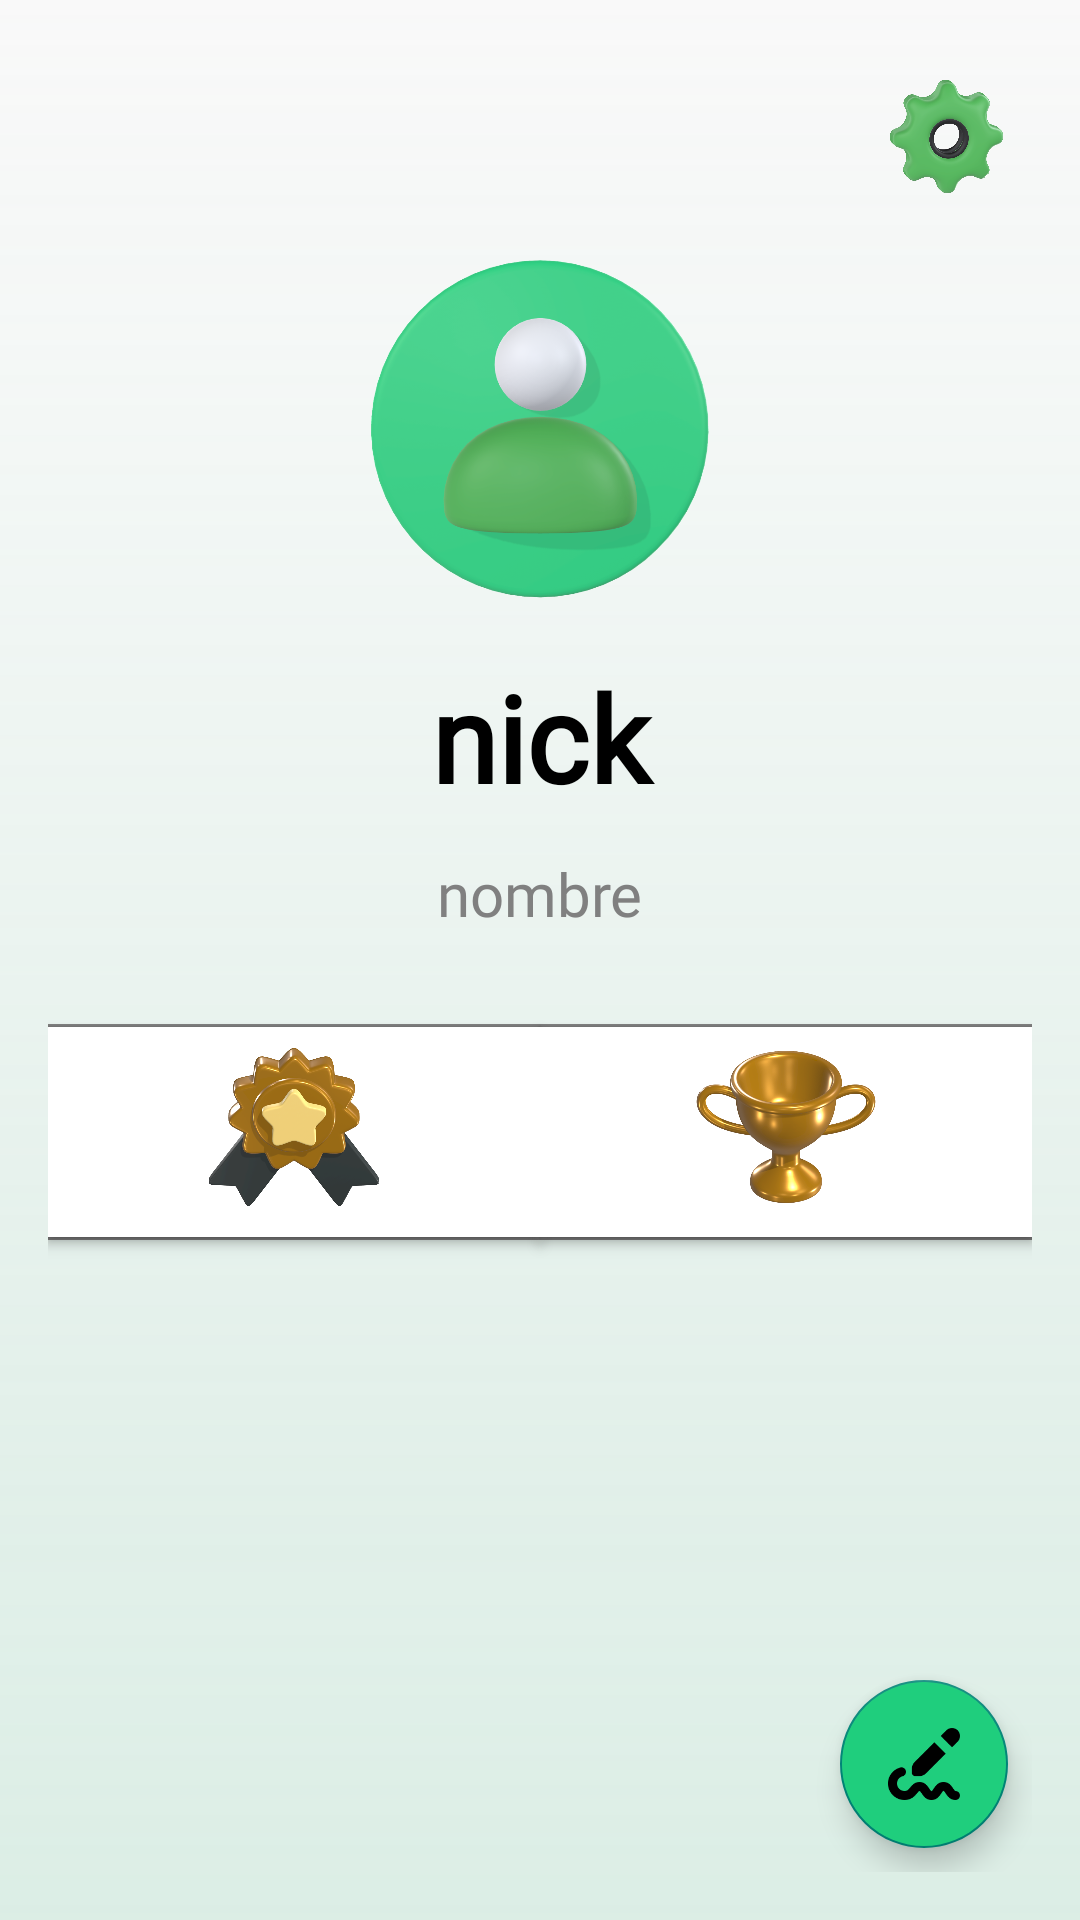

Named icons in this screenshot (1080x1920) and their bounding boxes, box(x1, y1, x2, y2):
ajustes: box(890, 80, 1003, 193)
editar: box(840, 1680, 1008, 1848)
perfil: box(371, 260, 709, 598)
